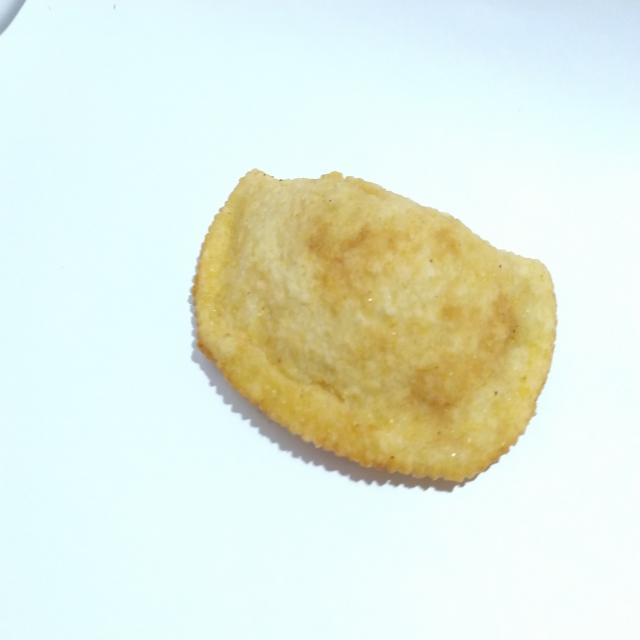Food: (182, 156, 560, 501)
